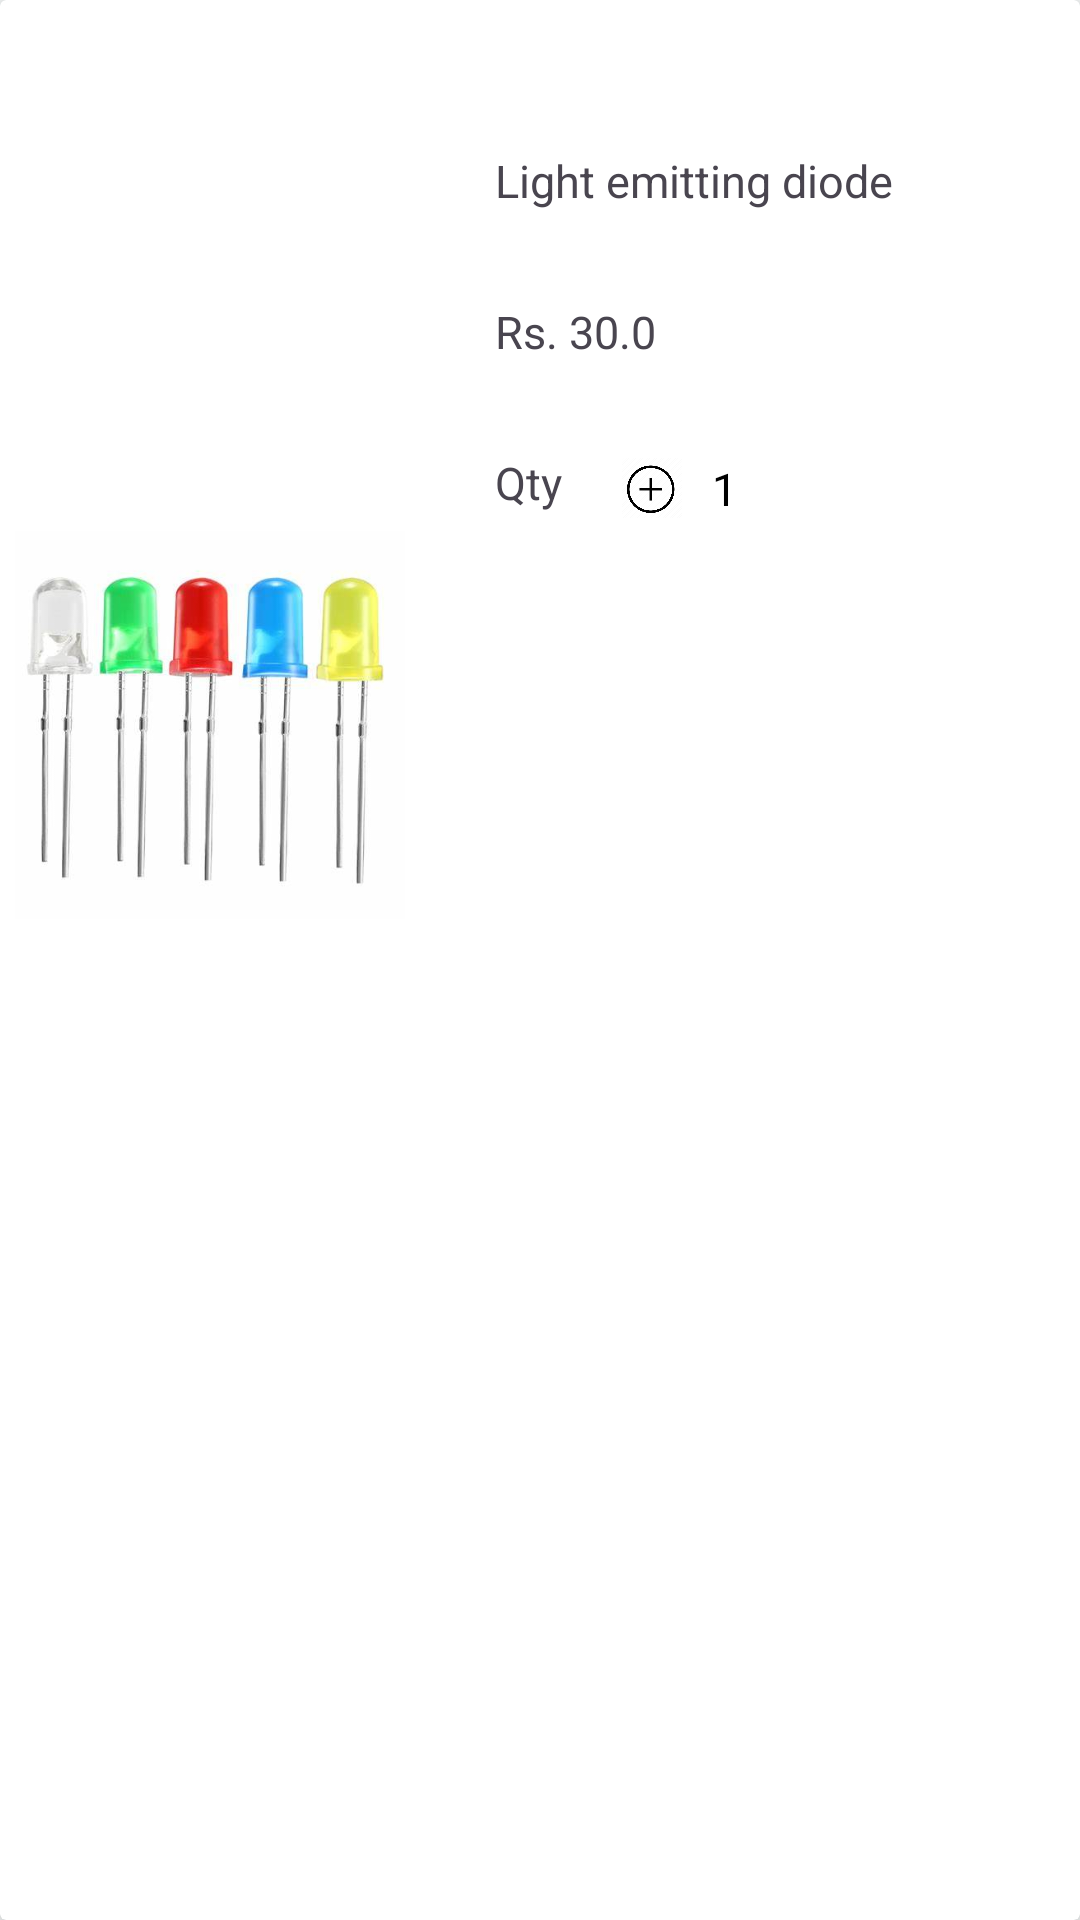

Icons on this 1080px×1920px Android screen, each with its box as (x1, y1, x2, y2):
plus: (627, 465, 675, 513)
